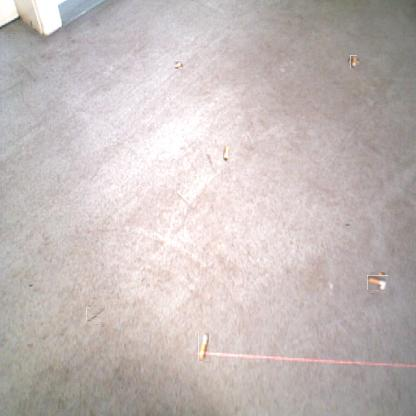dirty: (198, 331, 209, 361), (369, 274, 386, 292), (224, 145, 232, 161), (349, 56, 358, 66), (174, 60, 183, 68)
mark: (204, 148, 217, 174), (87, 306, 105, 323), (27, 280, 36, 288), (343, 221, 351, 229)
